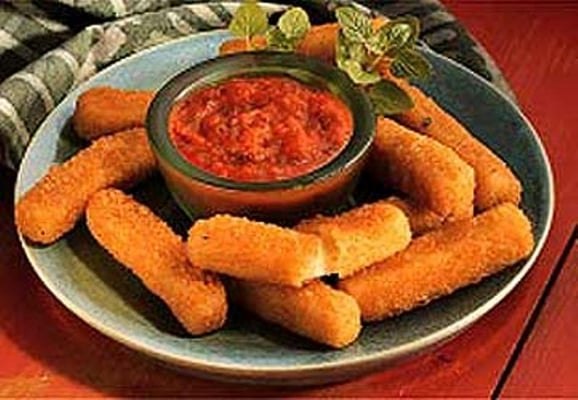sushi: (145, 52, 378, 217)
